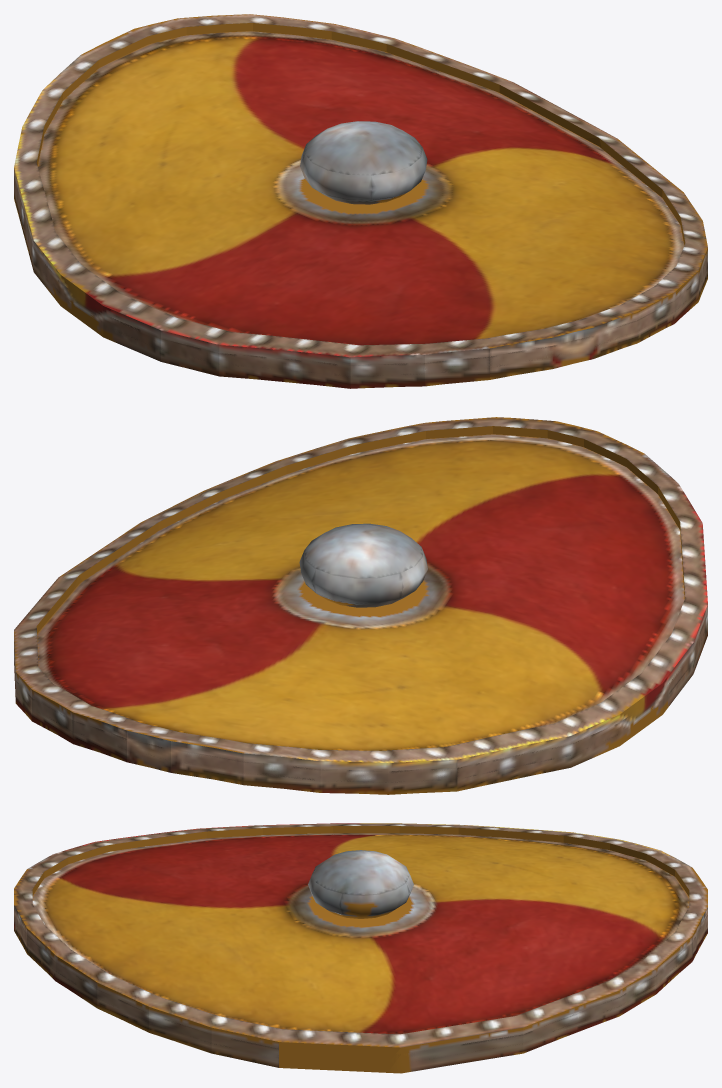
The model's file is item_mm9_10207.glb.
The picture shows the model from 3 angles, top to bottom: view 1: azimuth 30°, elevation 25°; view 2: azimuth 150°, elevation 25°; view 3: azimuth 270°, elevation 25°; orthographic projection. The views are drawn at different scales.
Parts seen in each view (by area): view 1: d10207; view 2: d10207; view 3: d10207.
Boxes of the visible parts, <box> form: d10207: <box>14,14,707,388</box>; d10207: <box>14,417,707,794</box>; d10207: <box>14,823,707,1073</box>.
Size of the model in its own units: 91.84 by 19.75 by 120.
1 material, 1 textured.
